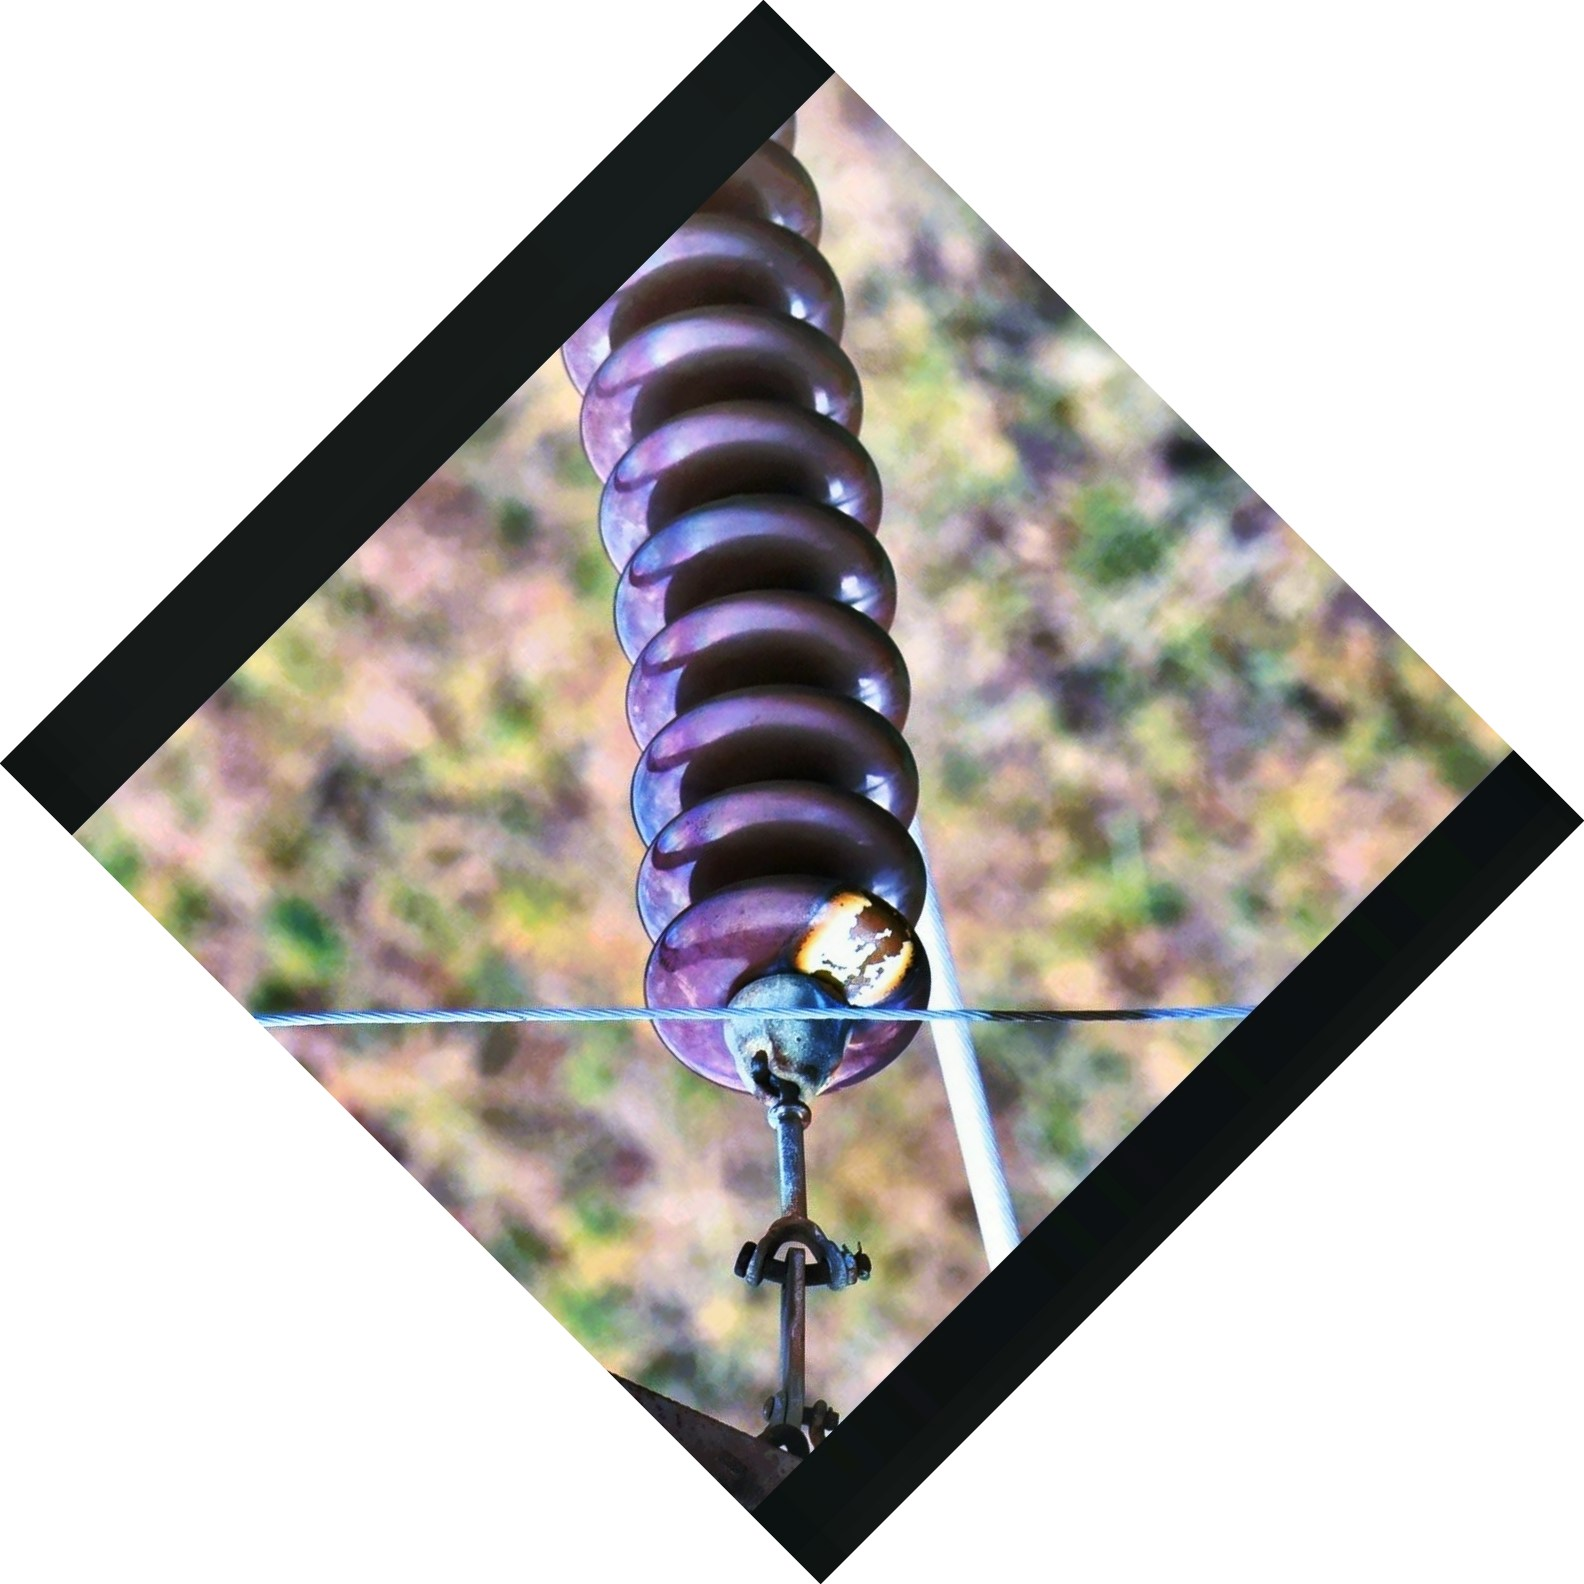Insulator flashover: (627, 873, 939, 1115)
